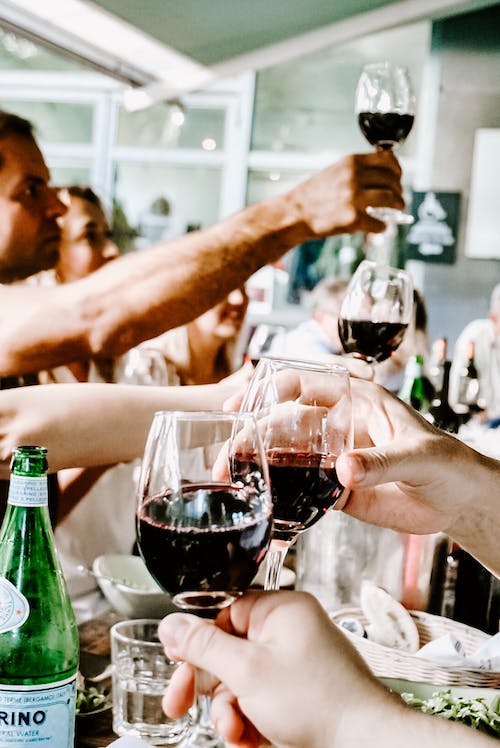alcohol: (134, 409, 274, 748), (227, 354, 355, 591), (0, 444, 79, 748), (353, 61, 417, 227), (335, 259, 415, 365), (425, 359, 462, 435), (243, 321, 290, 371), (455, 339, 481, 414), (408, 355, 437, 413)
